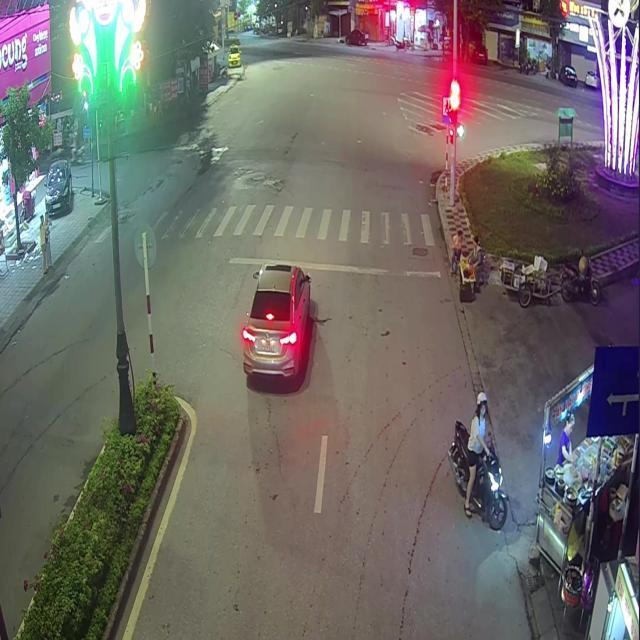car: (240, 261, 311, 378)
motobike: (445, 419, 507, 530)
red_light: (450, 92, 457, 125)
stop_line: (226, 256, 440, 277)
